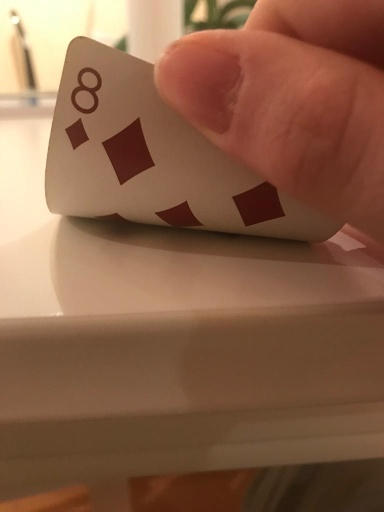D8: (62, 60, 101, 151)
